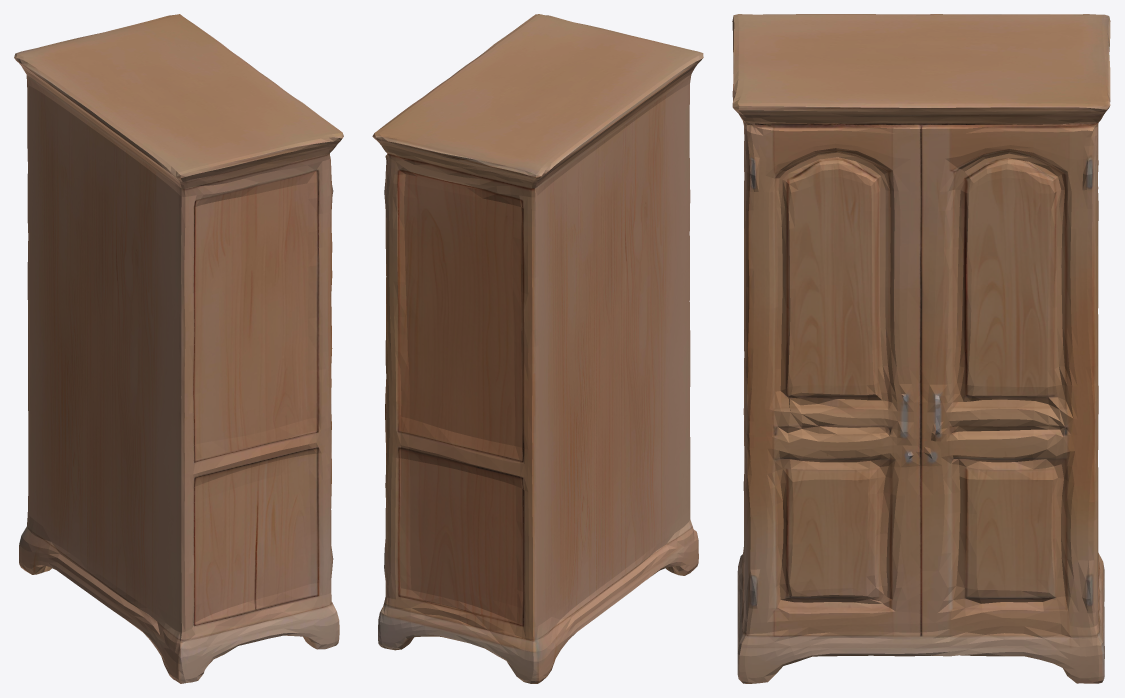
Rendered from cupboard.glb.
3 views of the same model, side by side, from view 1: azimuth 30°, elevation 25°; view 2: azimuth 150°, elevation 25°; view 3: azimuth 270°, elevation 25° (orthographic). The views are drawn at different scales.
Parts seen in each view (by area): view 1: tripo_node_aee89337-7387-4728-baaf-58bb0902879a; view 2: tripo_node_aee89337-7387-4728-baaf-58bb0902879a; view 3: tripo_node_aee89337-7387-4728-baaf-58bb0902879a.
Part boxes in pixels (x1,y1,x2,y2): tripo_node_aee89337-7387-4728-baaf-58bb0902879a: (14, 14, 343, 683); tripo_node_aee89337-7387-4728-baaf-58bb0902879a: (372, 14, 703, 683); tripo_node_aee89337-7387-4728-baaf-58bb0902879a: (732, 14, 1110, 683).
Bounding box in the file's own units: 0.3428 × 0.9998 × 0.5877.
1 material, 1 textured.
